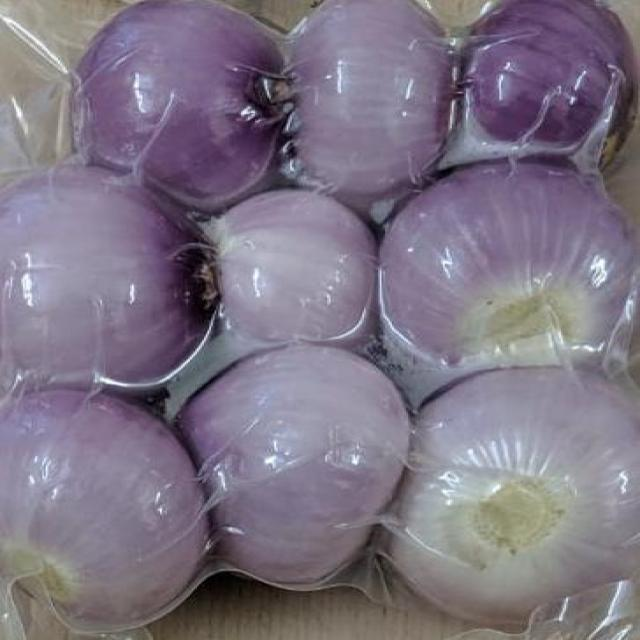Onion: (378, 362, 640, 622), (372, 162, 640, 393), (179, 344, 410, 586), (0, 164, 222, 395), (66, 0, 294, 220), (7, 388, 208, 624), (282, 0, 455, 216), (441, 0, 640, 175), (206, 188, 378, 354)
